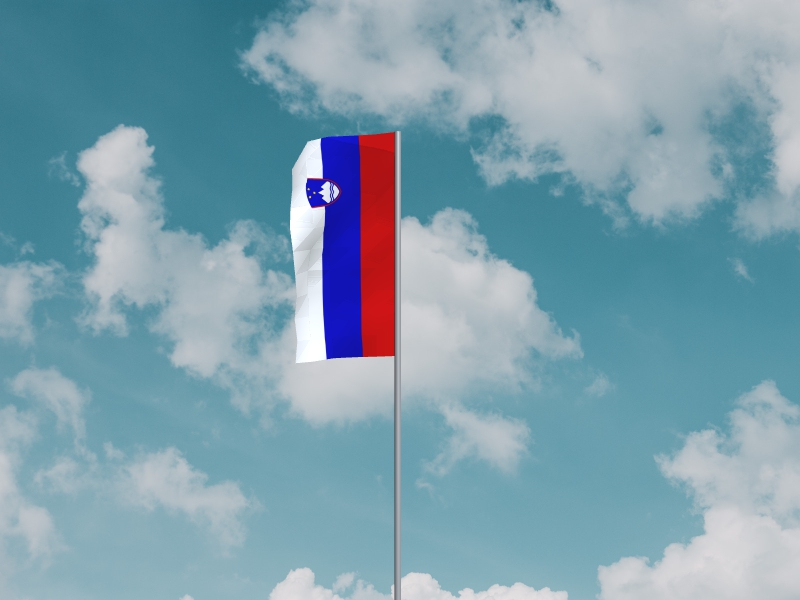si: (290, 133, 394, 365)
